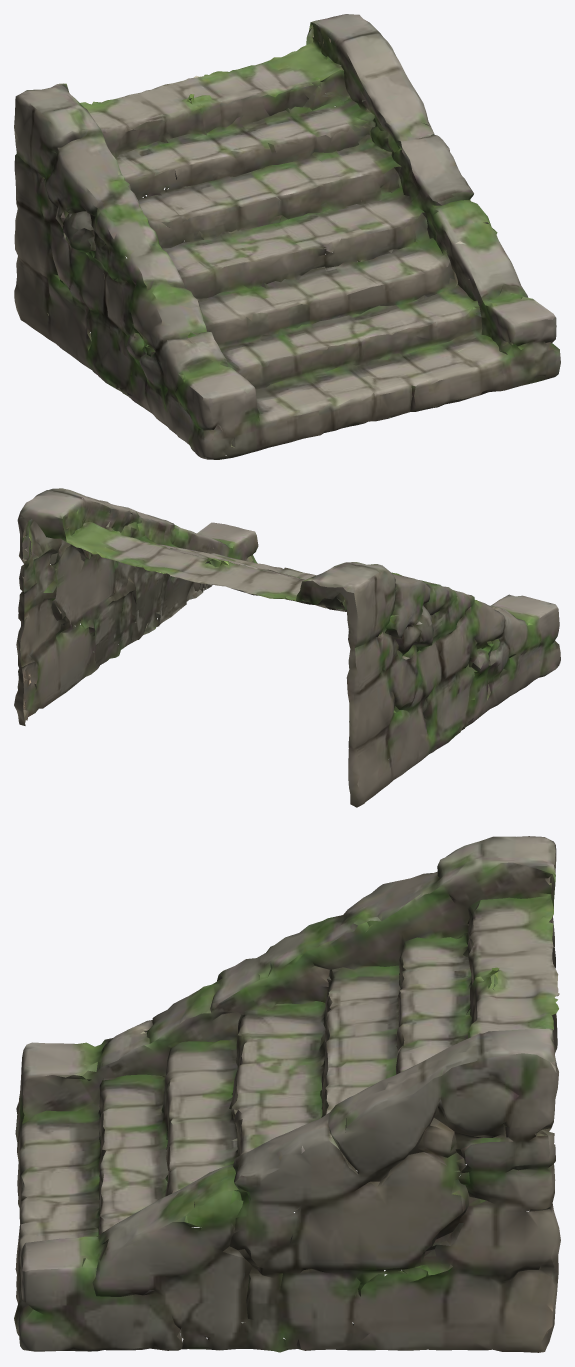
File: StairsWalled.glb
3 views of the same model, one above another, from view 1: azimuth 30°, elevation 25°; view 2: azimuth 150°, elevation 25°; view 3: azimuth 270°, elevation 25° (orthographic). The views are drawn at different scales.
Visible parts, largest first — view 1: StairsWalled; view 2: StairsWalled; view 3: StairsWalled.
Part boxes in pixels (x1,y1,x2,y2): StairsWalled: [14, 14, 560, 459]; StairsWalled: [14, 488, 560, 807]; StairsWalled: [14, 836, 560, 1352].
Bounding box in the file's own units: 2.74 × 1.64 × 2.72.
Materials: 1 (1 with a texture image).
